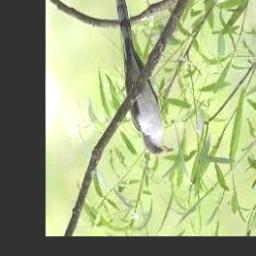Cuckoo: (115, 0, 173, 155)
